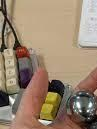ironball: (64, 85, 96, 121), (87, 119, 96, 128)
